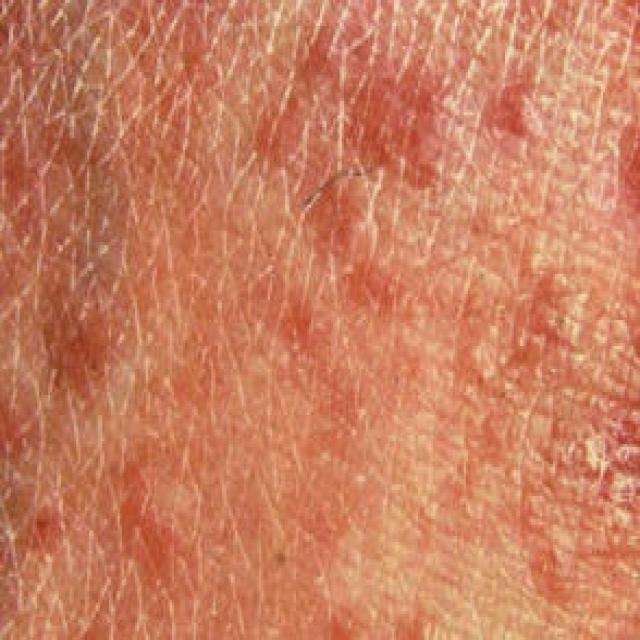Warts-Molluscum-and-other-Viral-Infections: (144, 23, 638, 548)
